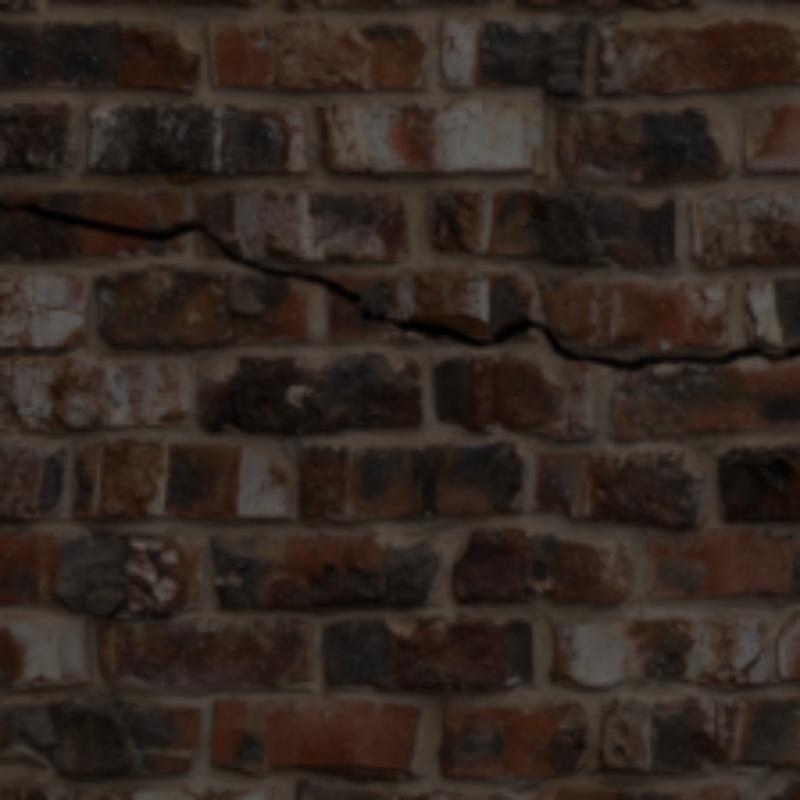pothole: (0, 204, 779, 368)
